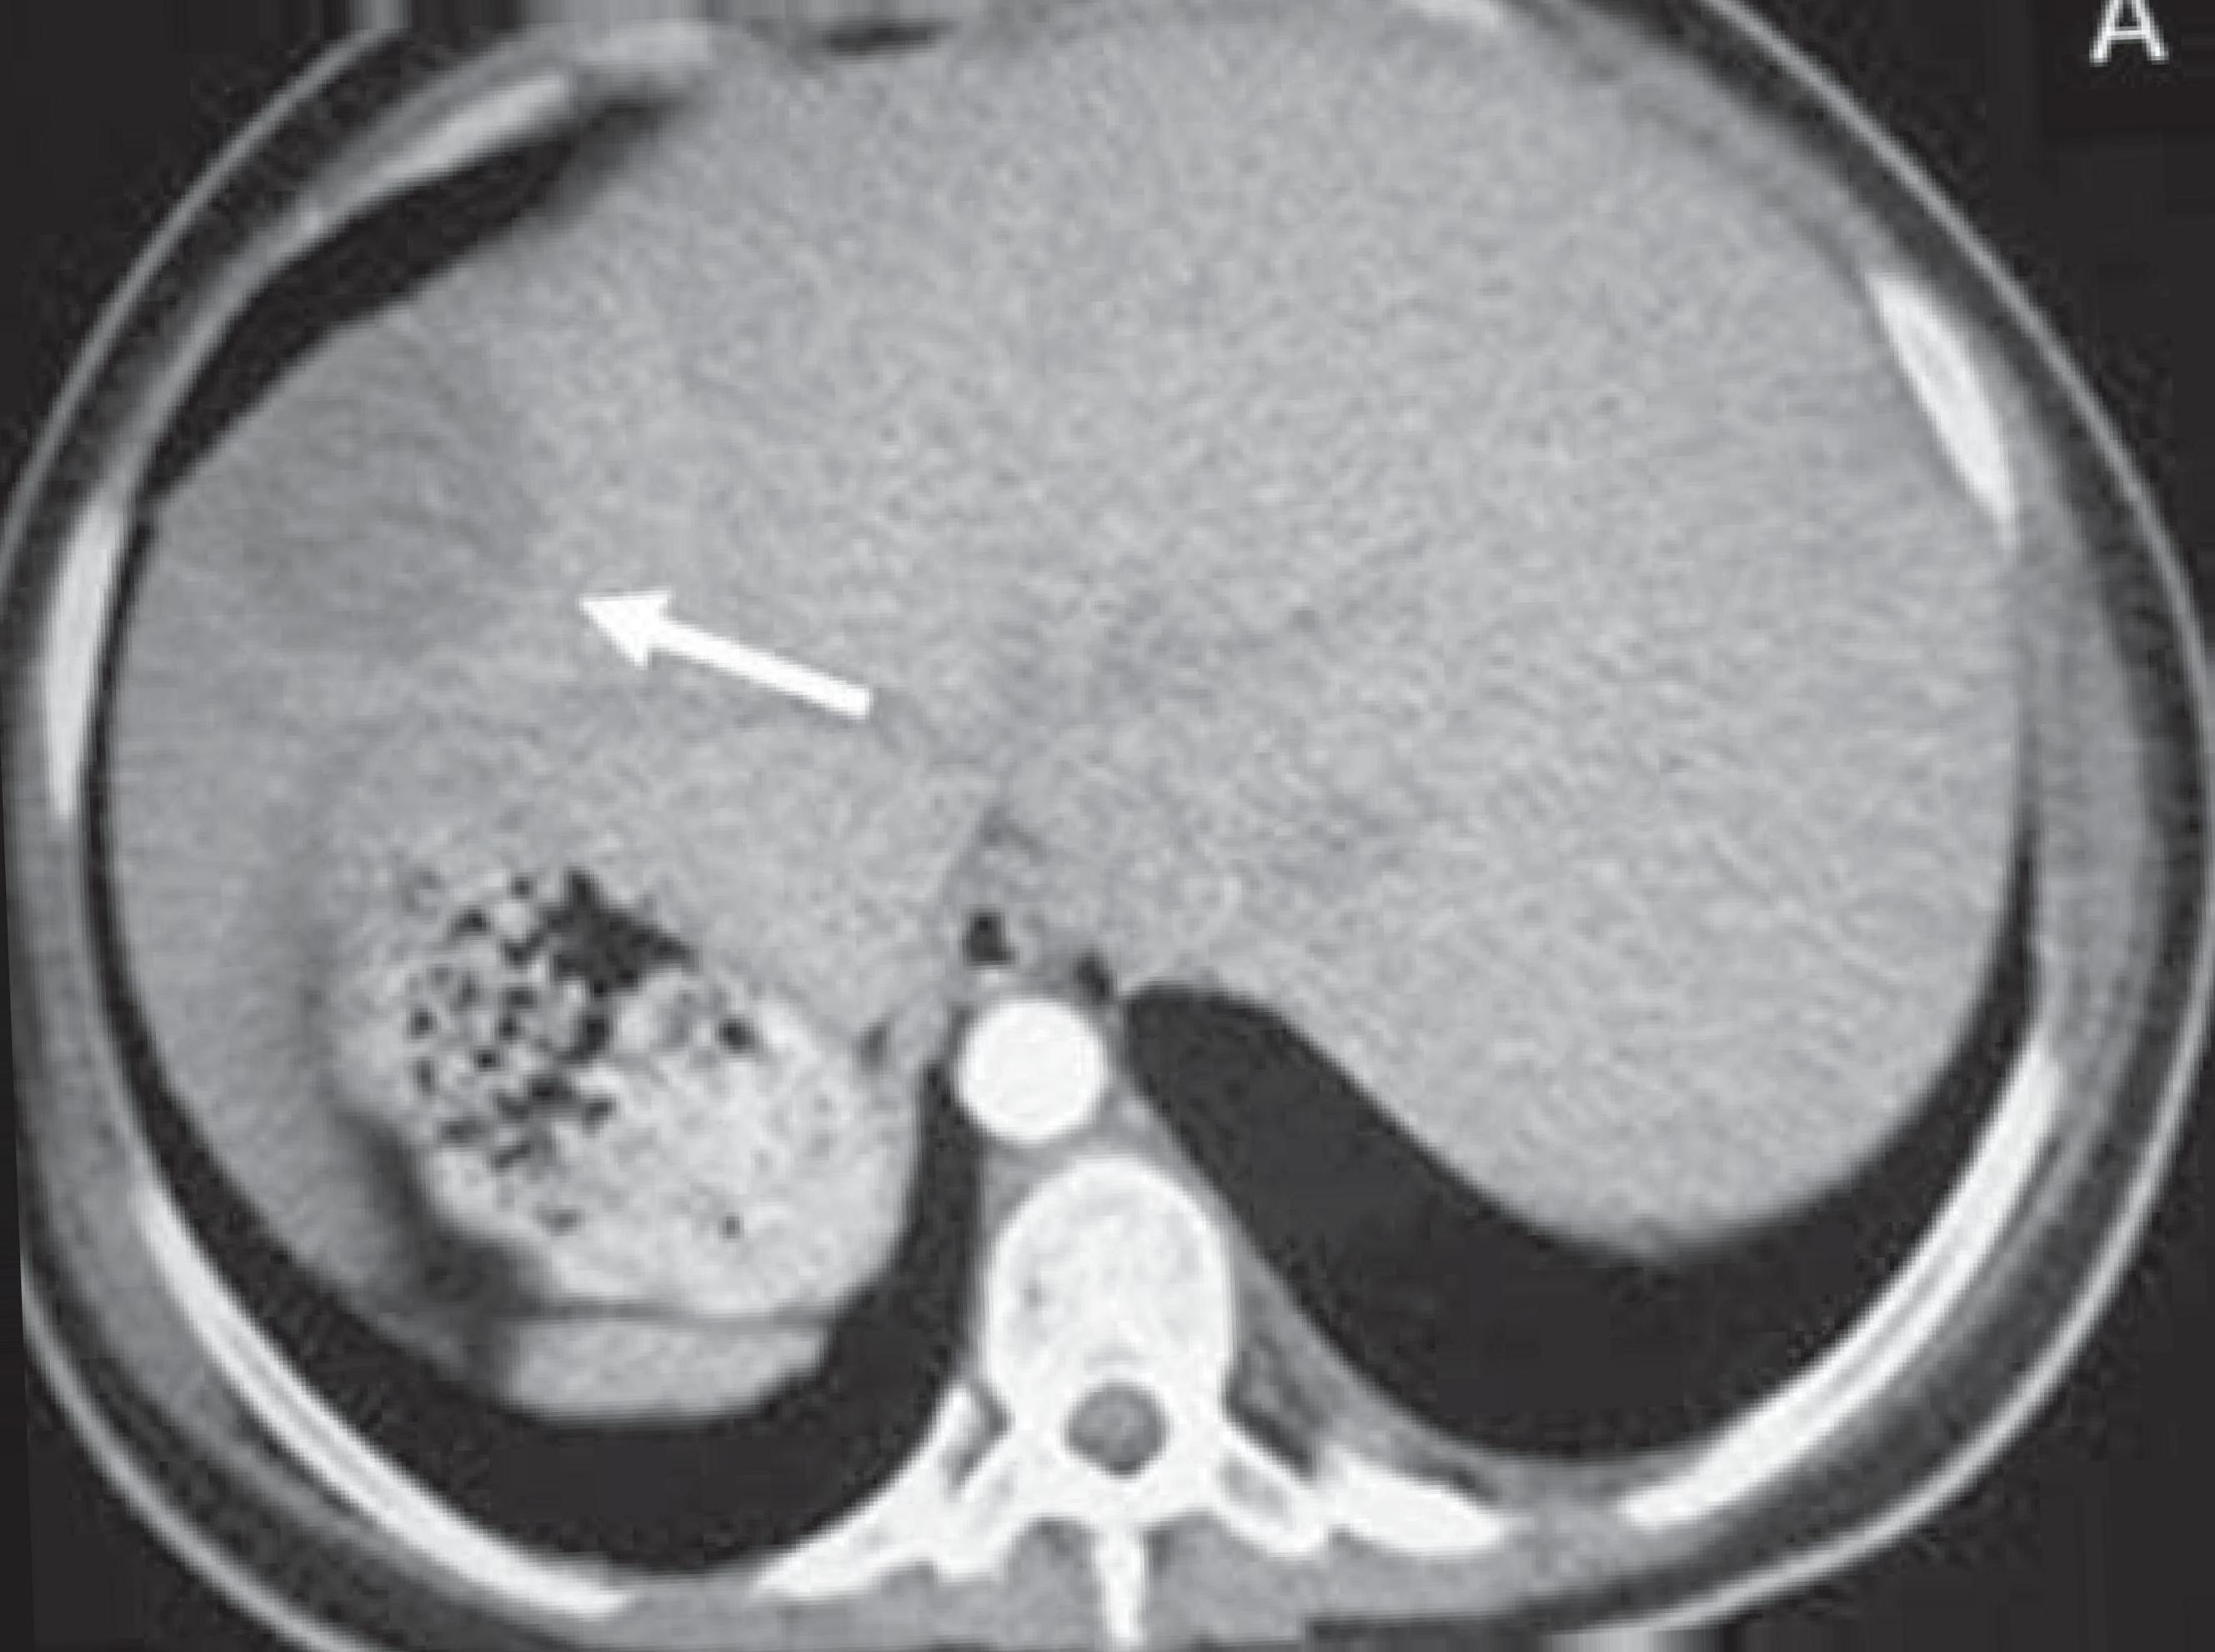anomaly: (227, 357, 568, 640)
